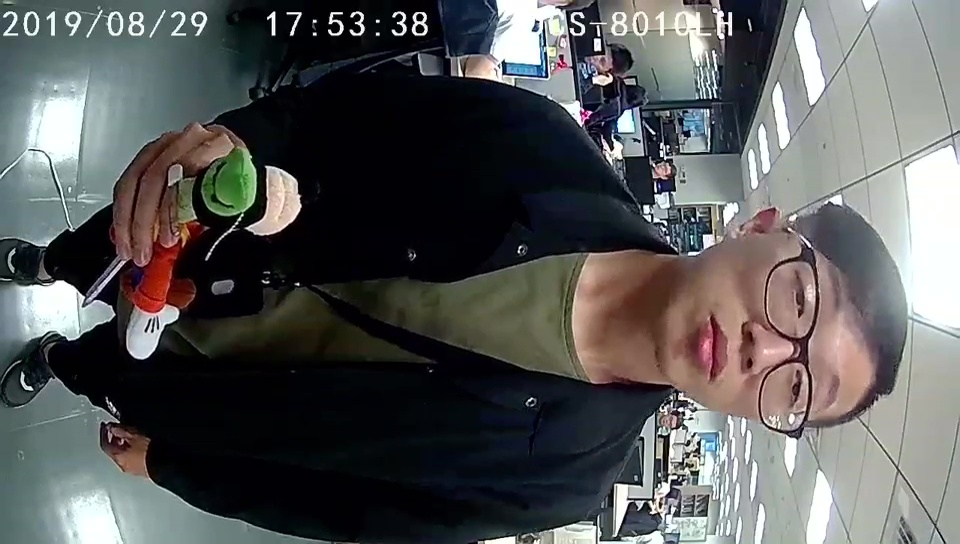goofy: (126, 145, 306, 362)
